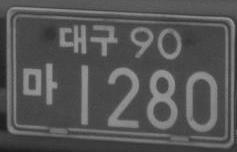0: (184, 69, 219, 134), (156, 26, 183, 61)
1: (69, 63, 98, 126)
2: (106, 65, 140, 130)
8: (144, 68, 178, 130)
9: (129, 25, 154, 59)
대구_O: (57, 23, 118, 57)
마: (22, 62, 58, 105)
